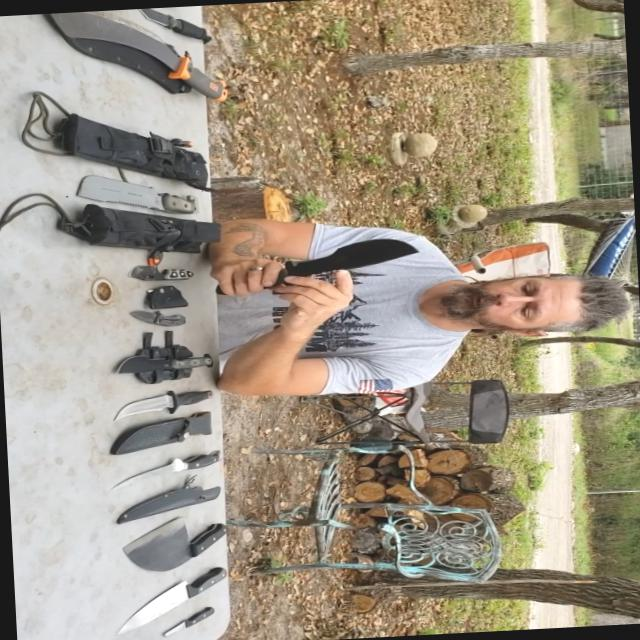knife: (39, 3, 254, 108), (251, 233, 447, 300), (107, 508, 244, 576), (50, 168, 220, 220), (108, 564, 230, 633), (108, 442, 234, 490), (110, 380, 240, 426), (103, 348, 224, 382), (134, 4, 226, 44), (113, 256, 210, 290), (153, 602, 224, 639), (114, 304, 202, 332)
